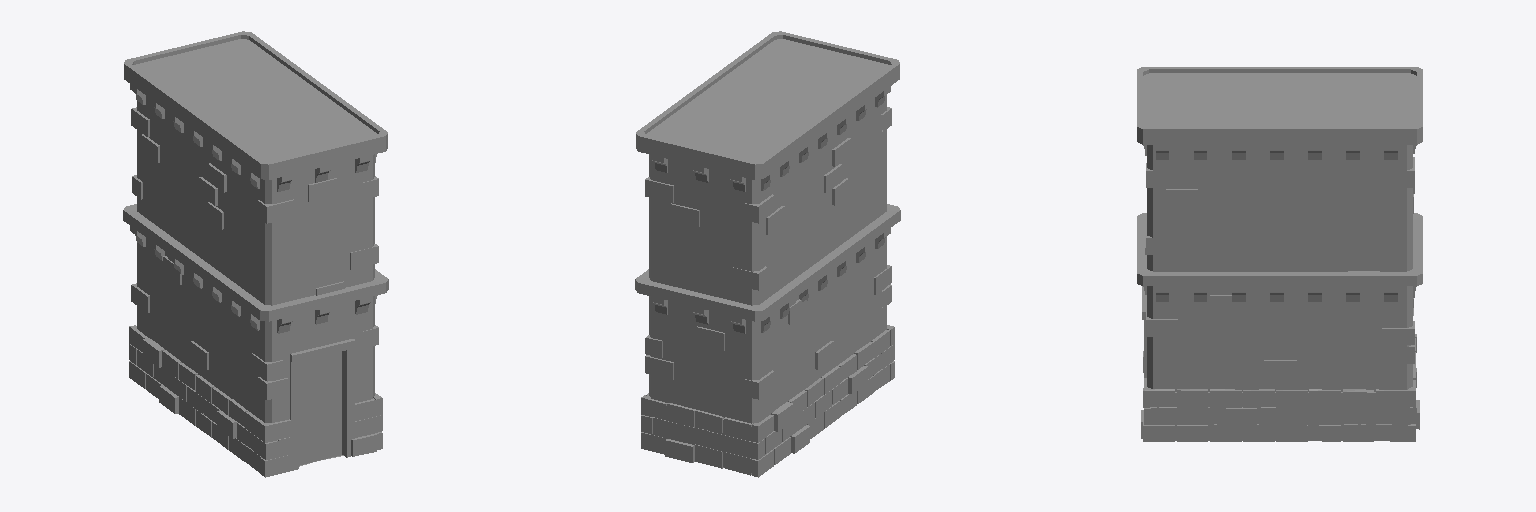
File: 2Story_Slim_Base.obj
3 views of the same model, side by side, from view 1: azimuth 30°, elevation 25°; view 2: azimuth 150°, elevation 25°; view 3: azimuth 270°, elevation 25° (orthographic).
Parts seen in each view (by area): view 1: 2Story_Slim_Base_Cube.052; view 2: 2Story_Slim_Base_Cube.052; view 3: 2Story_Slim_Base_Cube.052.
Boxes of the visible parts, x1,y1,x2,y2 form: 2Story_Slim_Base_Cube.052: [123, 31, 388, 477]; 2Story_Slim_Base_Cube.052: [635, 31, 900, 477]; 2Story_Slim_Base_Cube.052: [1137, 67, 1422, 441].
Bounding box in the file's own units: 1.12 × 2.62 × 2.15.